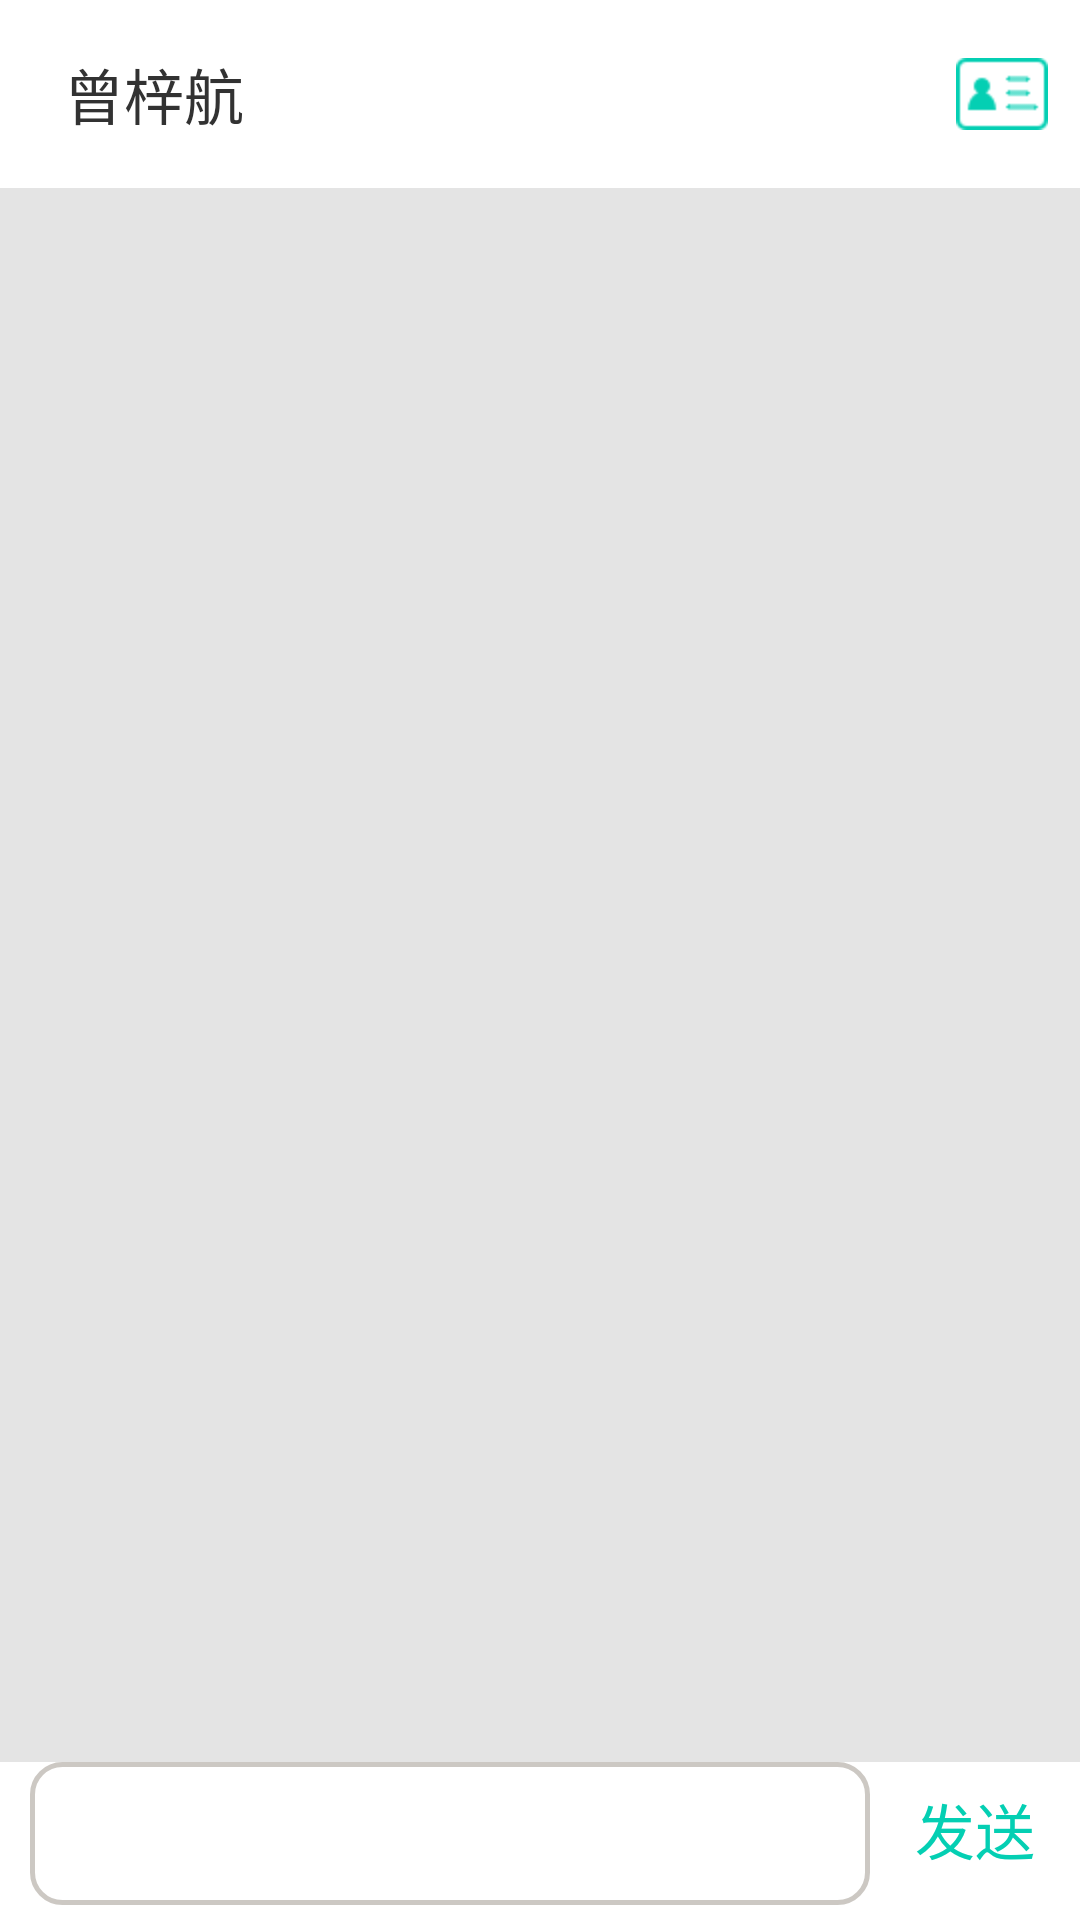

Screen size 1080 × 1920. Icon name, then its box in pixels as rect(x1, y1, x2, y2):
detail bt: rect(956, 58, 1048, 130)
